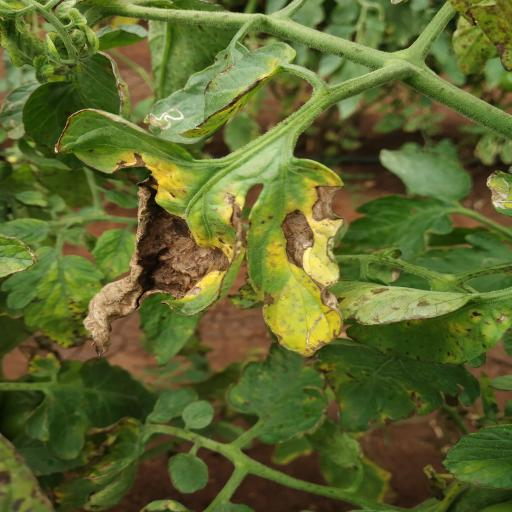Early Blight: (52, 110, 244, 361), (246, 158, 347, 360)
